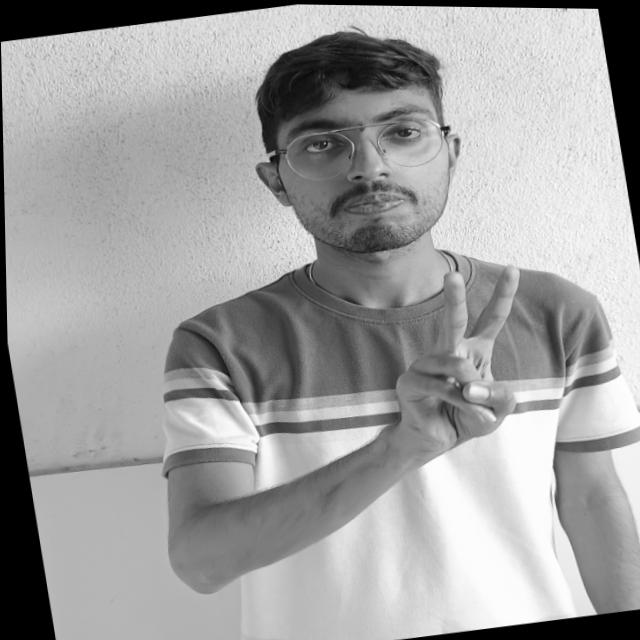Victory: (348, 239, 584, 478)
